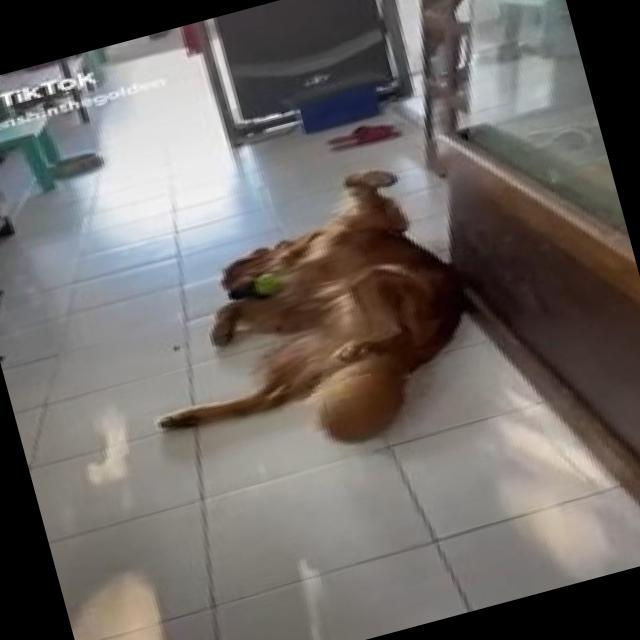dog: (122, 147, 504, 500)
